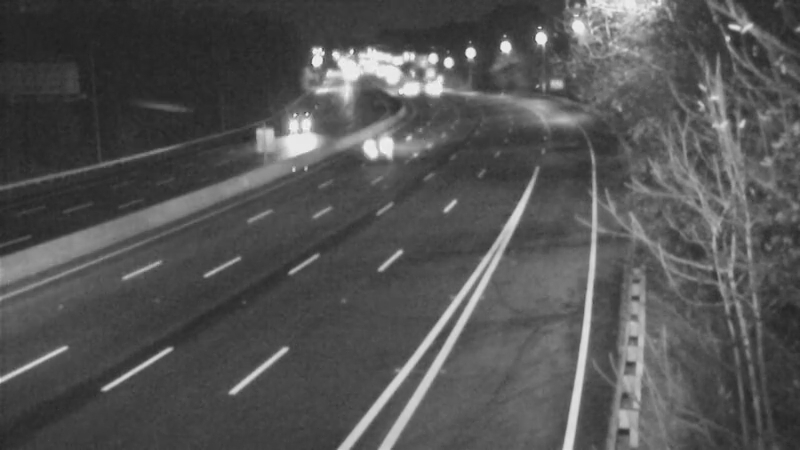vehicle: (358, 119, 408, 169), (272, 102, 322, 152)
